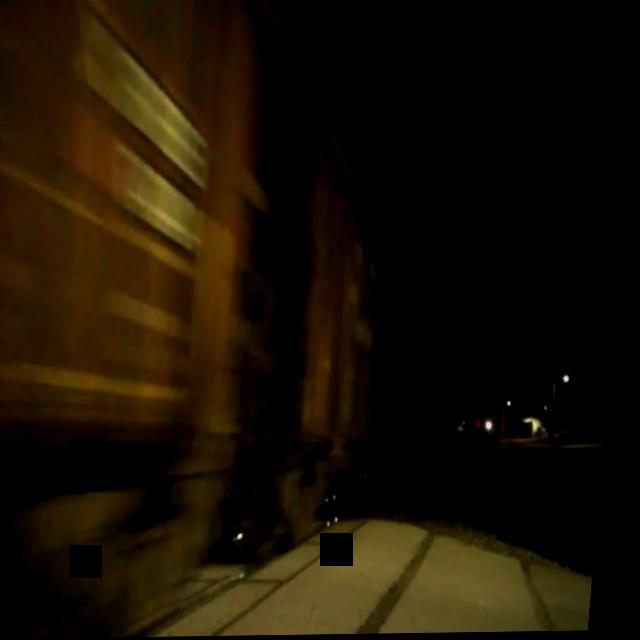gondola: (0, 0, 294, 640), (244, 110, 492, 611)
